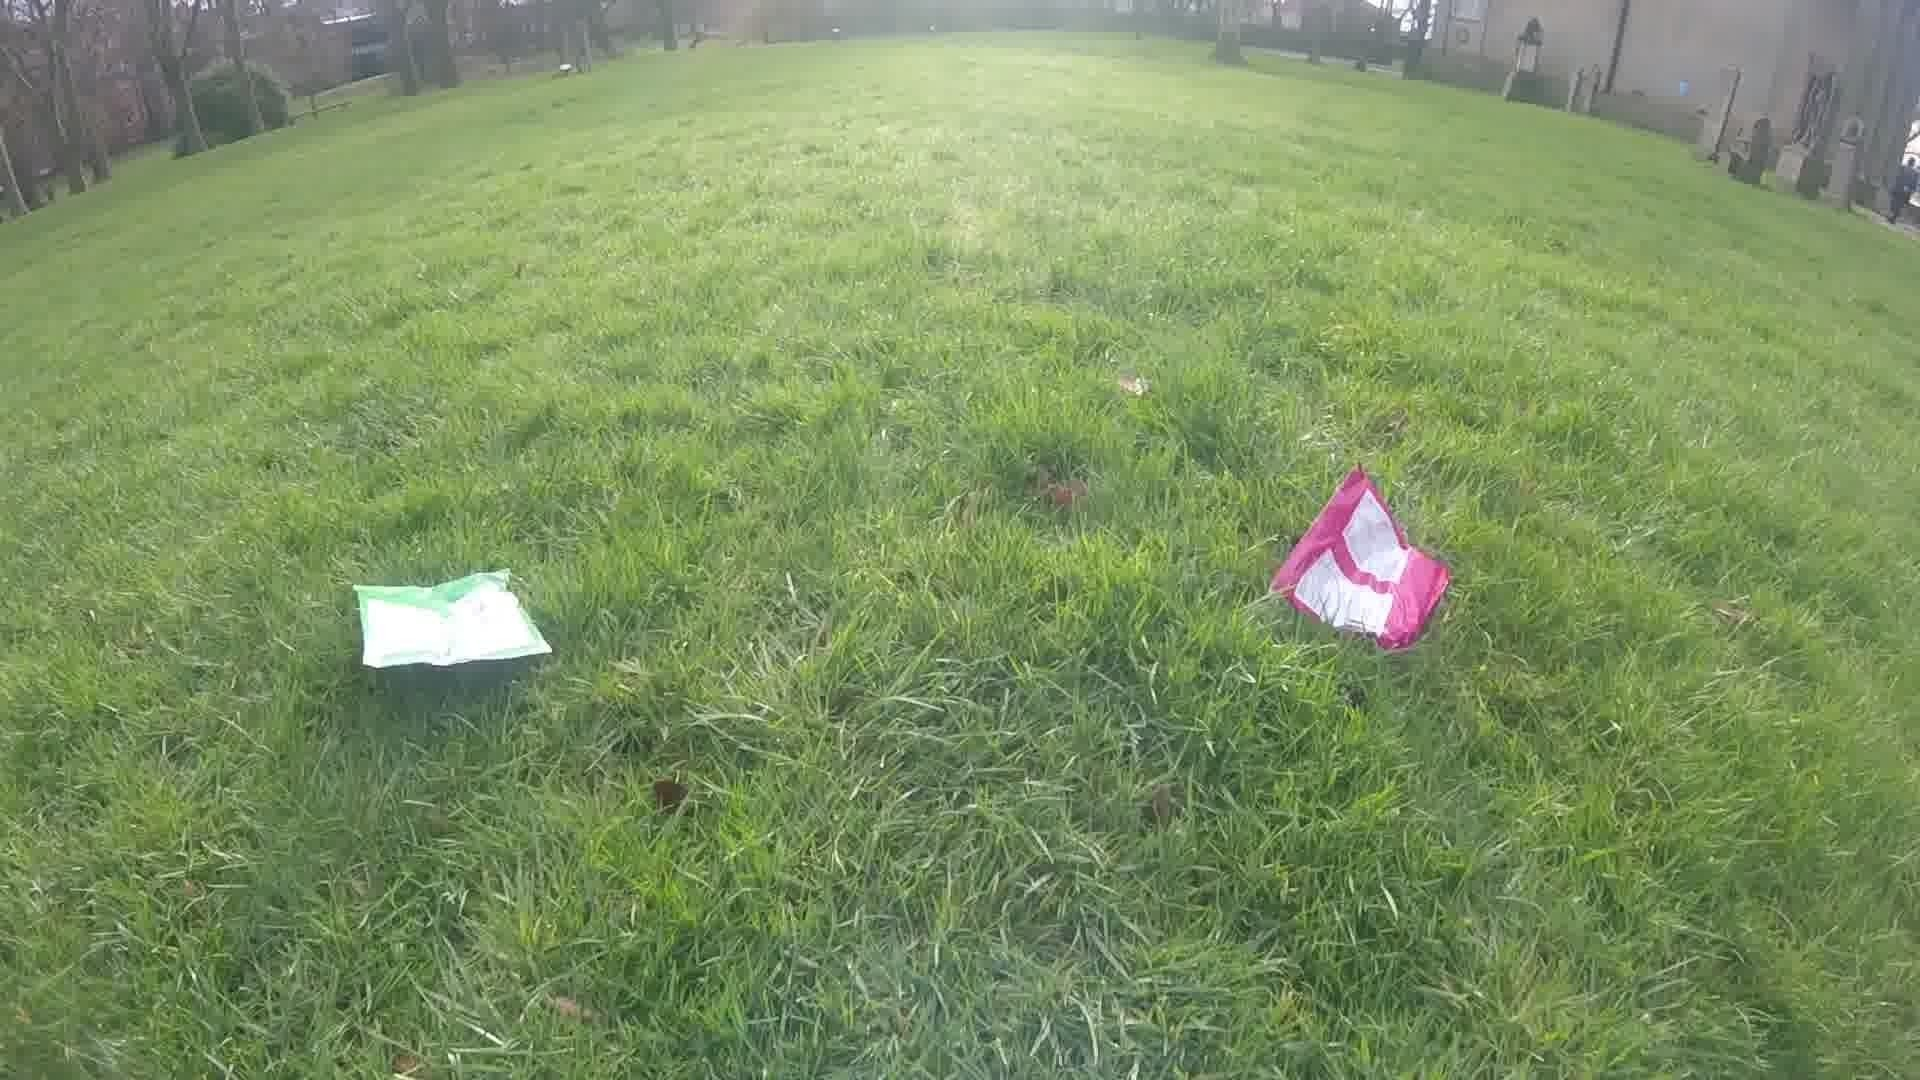litter: (1280, 468, 1441, 655), (342, 582, 554, 661)
